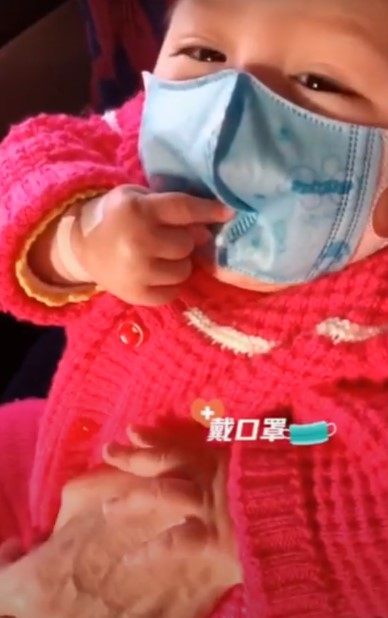face_with_mask: (131, 8, 382, 297)
